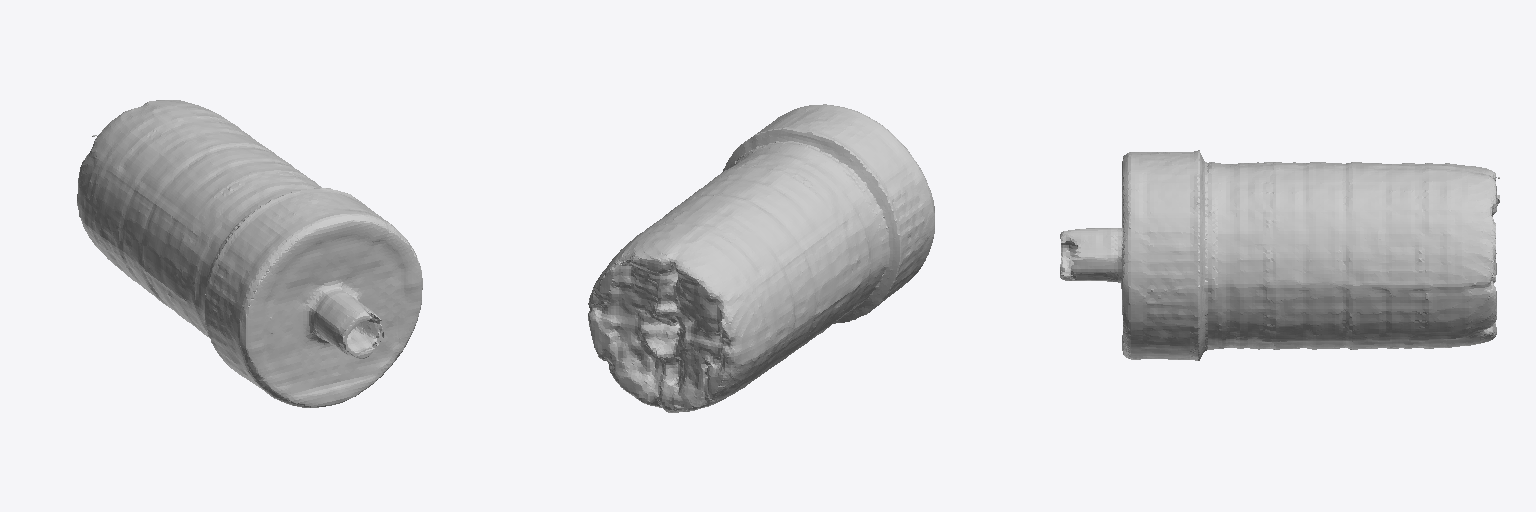
Rendered from replicate-prediction-z1wps3545srgm0cf8zaazgescr-2.obj.
3 views of the same model, side by side, from view 1: azimuth 30°, elevation 25°; view 2: azimuth 150°, elevation 25°; view 3: azimuth 270°, elevation 25° (orthographic).
Bounding box in the file's own units: 0.9639 × 0.9491 × 1.99.